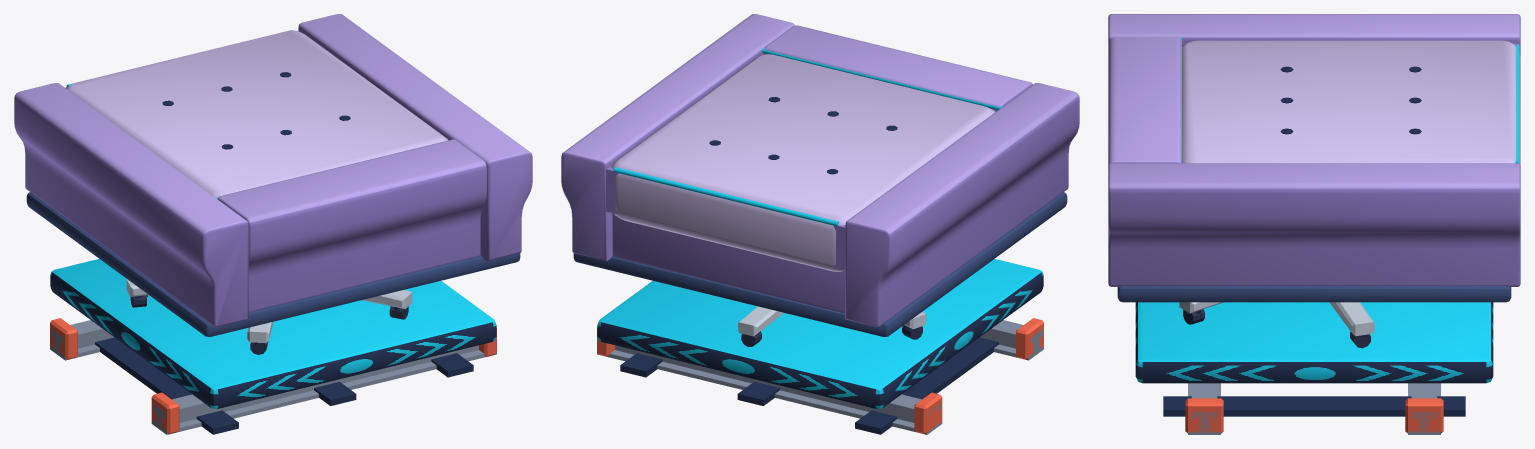
File: bureau_rail_chair.glb
3 renders of one model, left to right at view 1: azimuth 30°, elevation 25°; view 2: azimuth 150°, elevation 25°; view 3: azimuth 270°, elevation 25°, orthographic. The views are drawn at different scales.
Parts seen in each view (by area): view 1: bureau_rail_chair; view 2: bureau_rail_chair; view 3: bureau_rail_chair.
Part boxes in pixels (x1,y1,x2,y2): bureau_rail_chair: (14,14,532,434); bureau_rail_chair: (561,14,1079,434); bureau_rail_chair: (1108,14,1520,434).
Bounding box in the file's own units: 9 × 6 × 9.
Materials: 1 (1 with a texture image).
